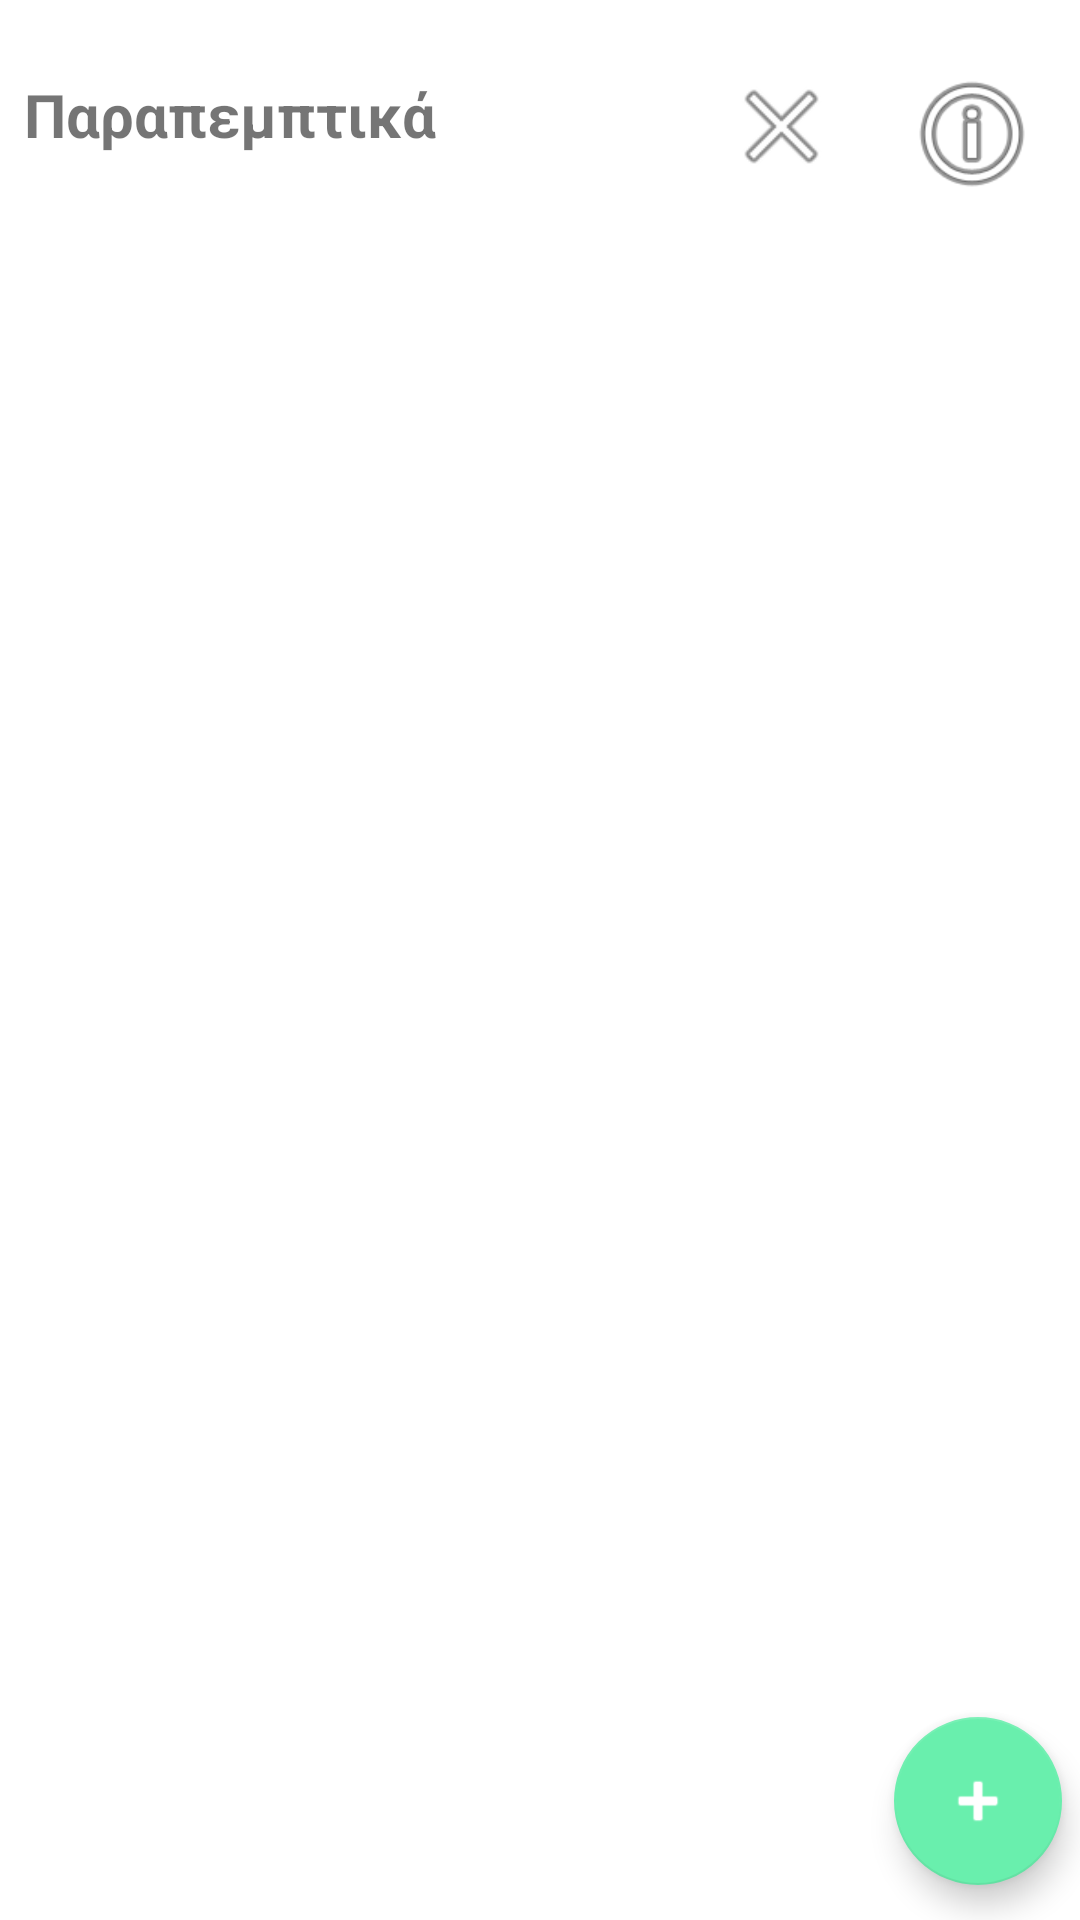

Icon bounding boxes for this 1080*1920 phone screenshot, format box=[x1, y1, x2, y2]:
delete items: box=[745, 90, 818, 163]
info: box=[920, 82, 1024, 186]
just a plus button to add referrals: box=[894, 1717, 1062, 1885]
